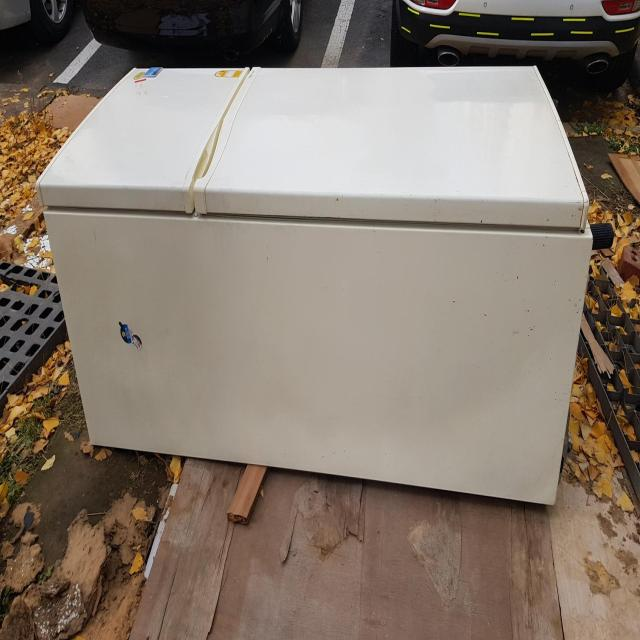refrigerator: (34, 63, 595, 511)
